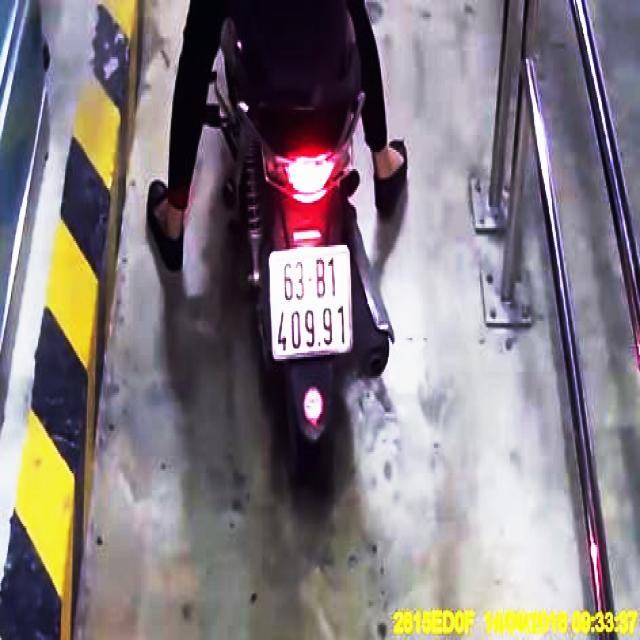license_plate: (273, 251, 351, 358)
